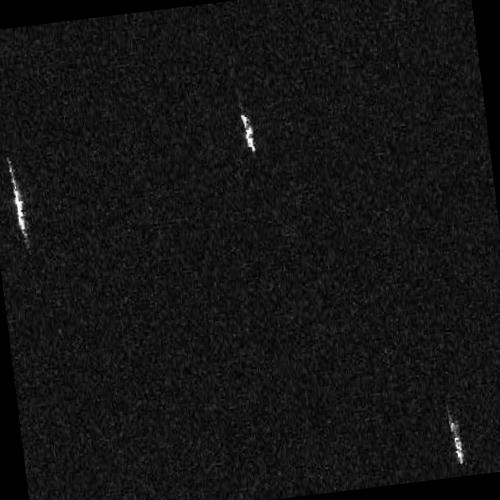ship: (5, 156, 28, 242), (447, 407, 465, 465), (238, 111, 256, 154)
